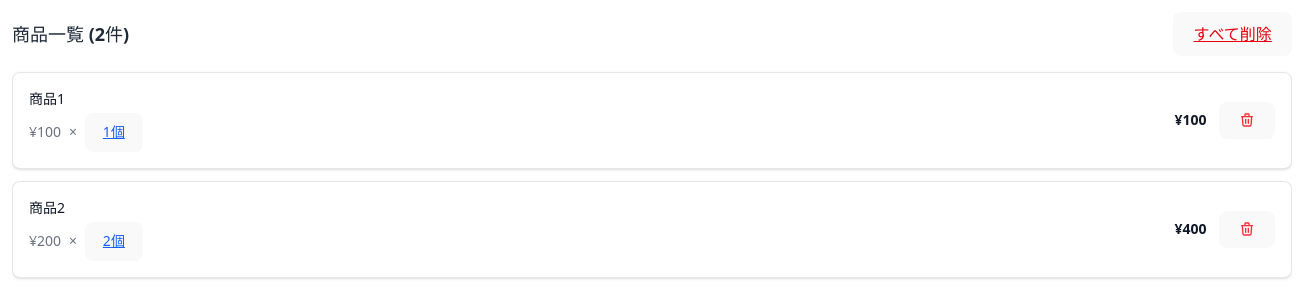
ItemList Integration › 商品の数量編集をキャンセルできる
The width and height of the screenshot is (1304, 296).
// 商品1の数量ボタンをクリック
Step 1. Click the button "1個" → (114, 132), box [85,113,143,152]
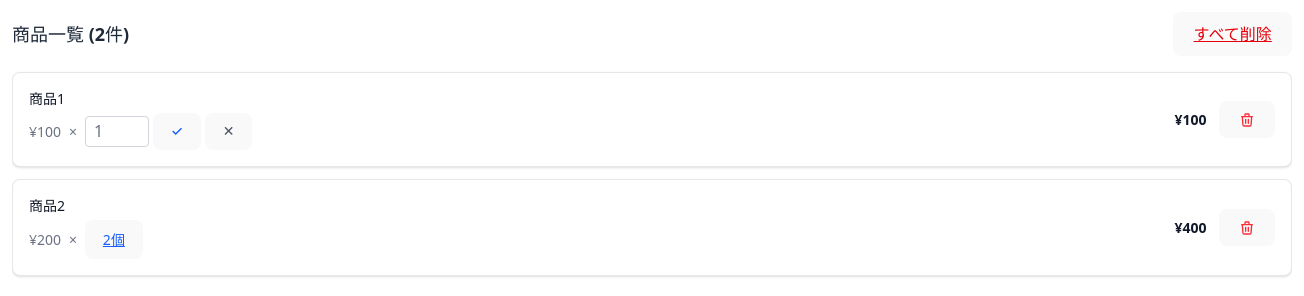
Step 2. Replace the text in the number field showing "1" with "5" → (117, 132), box [85,116,149,147]
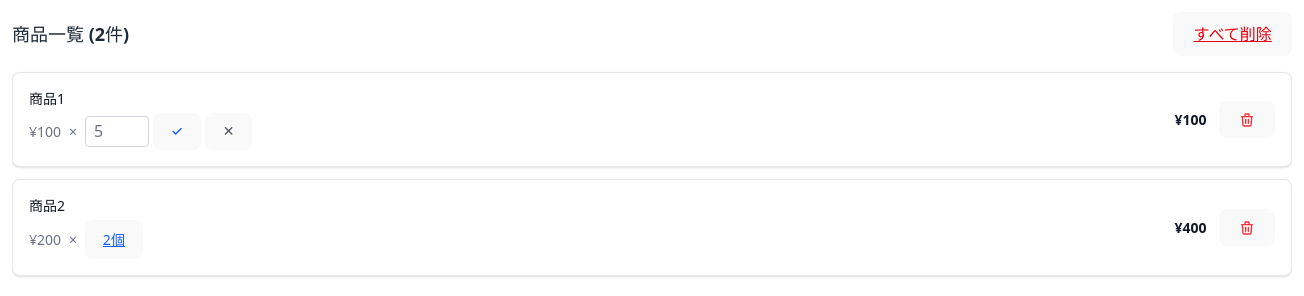
// キャンセルボタンをクリック
Step 3. Click the button "✕" → (229, 132), box [205,113,252,150]
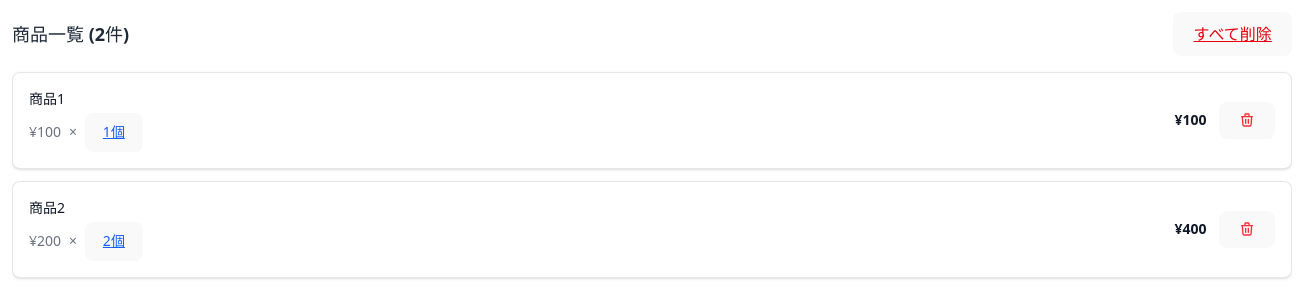
Expected: the button "1個" is shown, [85,113,143,152]
